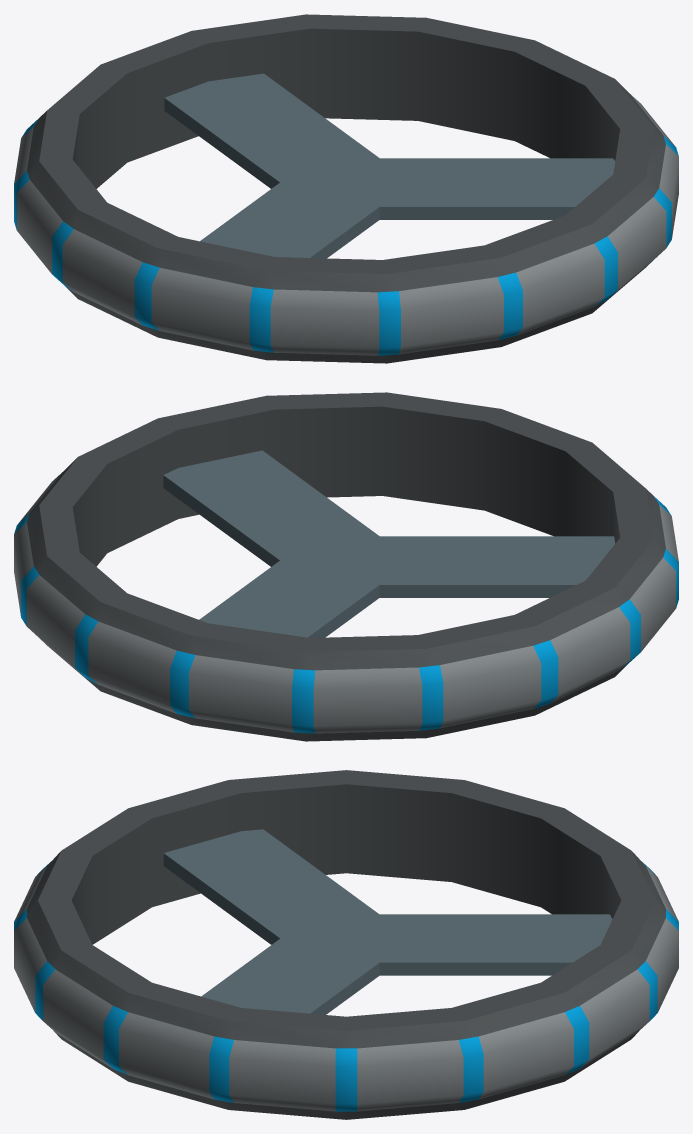
File: Turret_014_Part_01.fbx
3 renders of one model, top to bottom at view 1: azimuth 30°, elevation 25°; view 2: azimuth 150°, elevation 25°; view 3: azimuth 270°, elevation 25°, orthographic.
Parts seen in each view (by area): view 1: Turret_014_Part_01; view 2: Turret_014_Part_01; view 3: Turret_014_Part_01.
Part boxes in pixels (box(x1,y1,x2,y2)): Turret_014_Part_01: box(14, 14, 678, 363); Turret_014_Part_01: box(14, 392, 678, 741); Turret_014_Part_01: box(14, 770, 678, 1119).
Size of the model in its own units: 75.29 by 75.29 by 11.12.
